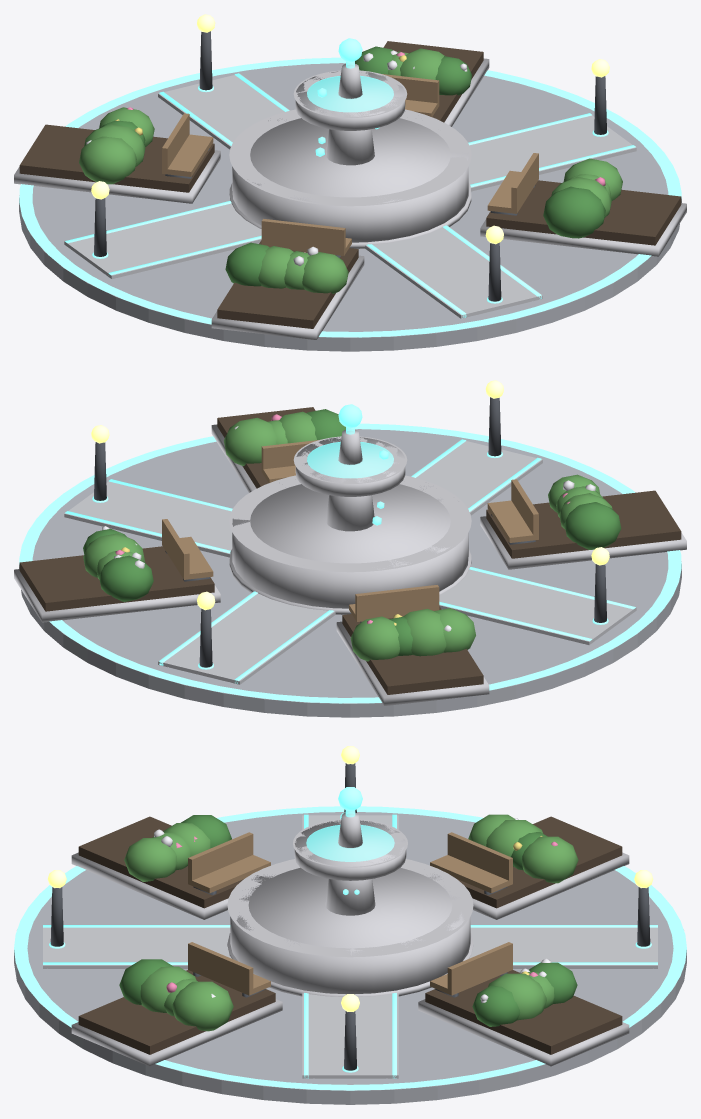
File: fountain_garden.glb
3 renders of one model, top to bottom at view 1: azimuth 30°, elevation 25°; view 2: azimuth 150°, elevation 25°; view 3: azimuth 270°, elevation 25°, orthographic.
Visible parts, largest first — view 1: FountainGarden_plaza, FountainGarden_stone, FountainGarden_path, FountainGarden_soil, FountainGarden_neon, FountainGarden_hedge2, FountainGarden_wood, FountainGarden_hedge, FountainGarden_metal, FountainGarden_water, FountainGarden_amber; view 2: FountainGarden_plaza, FountainGarden_stone, FountainGarden_path, FountainGarden_soil, FountainGarden_neon, FountainGarden_hedge2, FountainGarden_wood, FountainGarden_hedge, FountainGarden_metal, FountainGarden_water, FountainGarden_amber; view 3: FountainGarden_plaza, FountainGarden_stone, FountainGarden_path, FountainGarden_soil, FountainGarden_hedge2, FountainGarden_neon, FountainGarden_wood, FountainGarden_hedge, FountainGarden_metal, FountainGarden_water, FountainGarden_amber.
Boxes of the visible parts, left/top/right/bottom form: FountainGarden_plaza: left=19, top=63, right=681, bottom=351; FountainGarden_stone: left=14, top=58, right=686, bottom=339; FountainGarden_path: left=64, top=74, right=636, bottom=318; FountainGarden_soil: left=19, top=41, right=681, bottom=328; FountainGarden_neon: left=19, top=38, right=681, bottom=337; FountainGarden_hedge2: left=79, top=48, right=622, bottom=293; FountainGarden_wood: left=162, top=74, right=538, bottom=255; FountainGarden_hedge: left=101, top=46, right=605, bottom=286; FountainGarden_metal: left=94, top=31, right=606, bottom=301; FountainGarden_water: left=307, top=61, right=393, bottom=156; FountainGarden_amber: left=91, top=14, right=609, bottom=244; FountainGarden_plaza: left=19, top=429, right=681, bottom=717; FountainGarden_stone: left=14, top=424, right=686, bottom=705; FountainGarden_path: left=64, top=440, right=636, bottom=684; FountainGarden_soil: left=19, top=407, right=681, bottom=694; FountainGarden_neon: left=19, top=404, right=681, bottom=703; FountainGarden_hedge2: left=83, top=411, right=612, bottom=661; FountainGarden_wood: left=162, top=440, right=538, bottom=621; FountainGarden_hedge: left=83, top=409, right=621, bottom=655; FountainGarden_metal: left=94, top=397, right=606, bottom=667; FountainGarden_water: left=307, top=427, right=393, bottom=525; FountainGarden_amber: left=91, top=380, right=609, bottom=610; FountainGarden_plaza: left=14, top=812, right=686, bottom=1104; FountainGarden_stone: left=71, top=812, right=629, bottom=1066; FountainGarden_path: left=43, top=815, right=657, bottom=1078; FountainGarden_soil: left=78, top=816, right=622, bottom=1054; FountainGarden_hedge2: left=124, top=814, right=578, bottom=1031; FountainGarden_neon: left=14, top=787, right=686, bottom=1090; FountainGarden_wood: left=188, top=832, right=512, bottom=995; FountainGarden_hedge: left=119, top=815, right=577, bottom=1026; FountainGarden_metal: left=50, top=763, right=650, bottom=1070; FountainGarden_water: left=306, top=810, right=394, bottom=894; FountainGarden_amber: left=47, top=746, right=653, bottom=1011.
Size of the model in its own units: 7 by 2.01 by 7.
